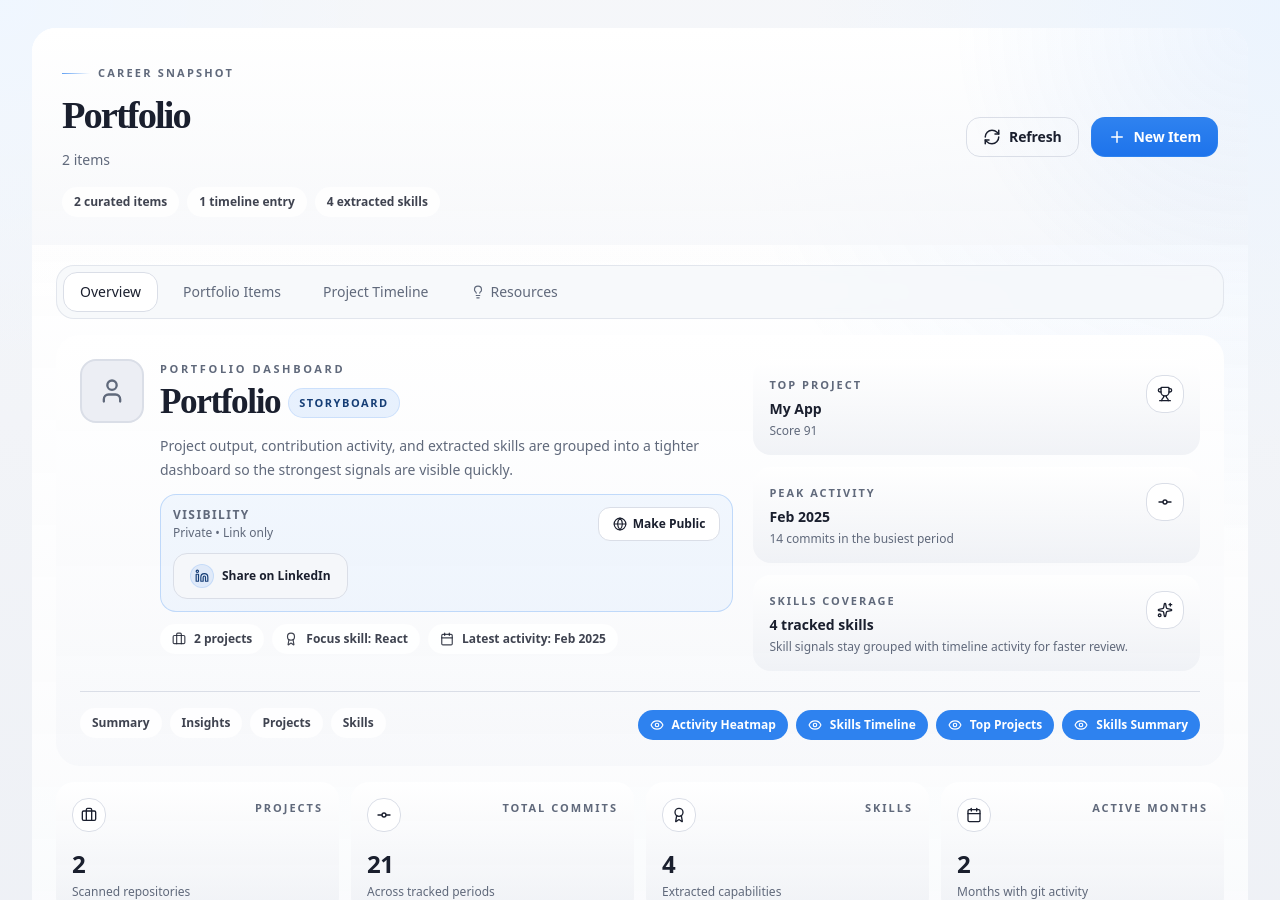
Scenario: PortfolioPage › shows success banner with project and file counts after refresh
The width and height of the screenshot is (1280, 900).
Click the button "Refresh" at (1022,137), box [966,117,1079,157]
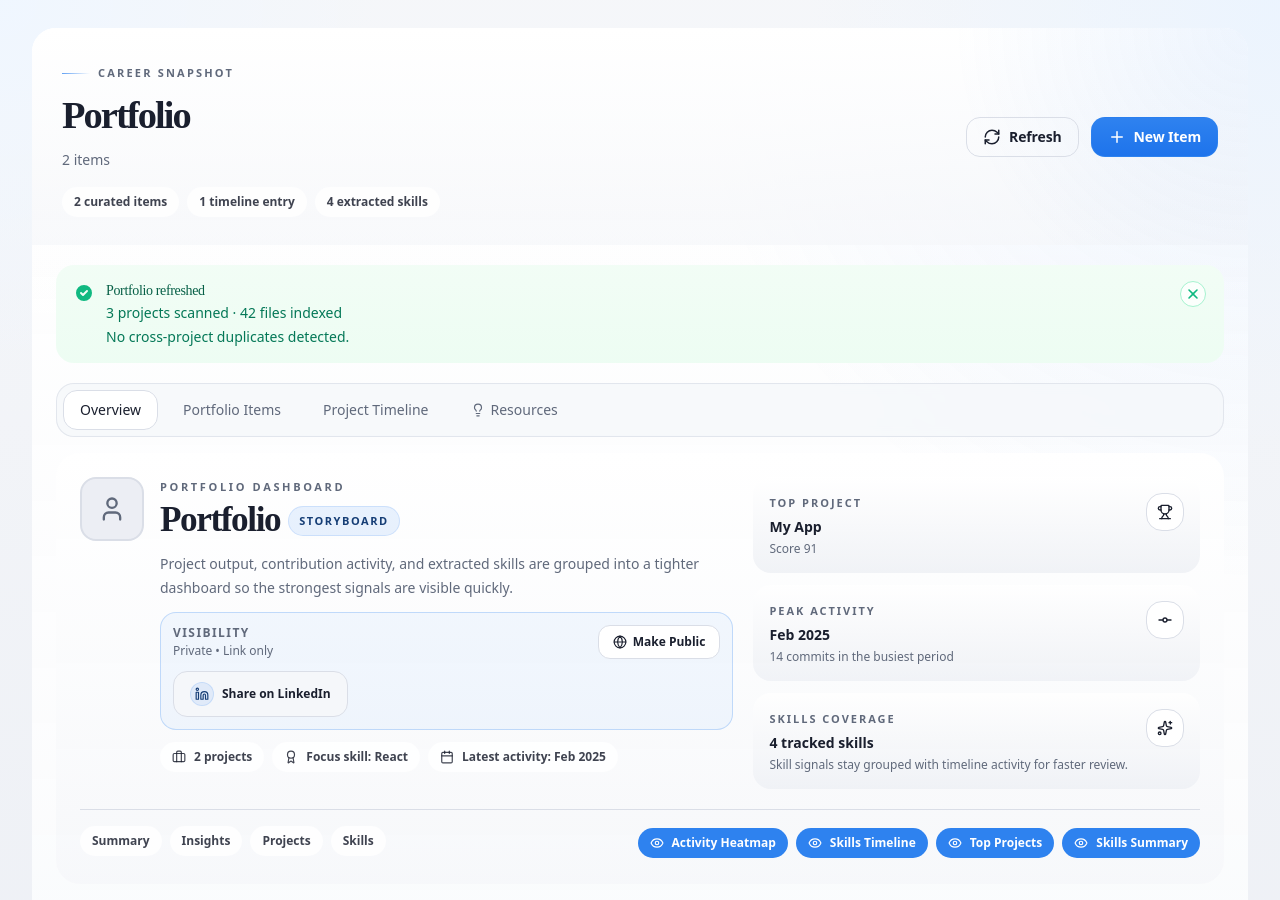
Expected: the heading "Portfolio refreshed" is shown, [106,284,205,298]
Expected: the text "3 projects scanned · 42 files indexed" is shown, [106,304,349,324]
